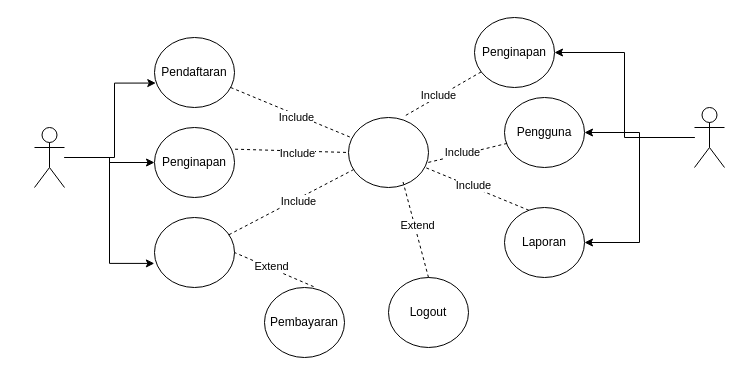
Some shapes in this 743 by 375 pixel diagram are drawn without their labels. The shapes that lost their labels are listed below. From the top down, each one's centre as x and y in pixels, then its label:
At (x=49, y=157): "Pengunjung".
At (x=388, y=152): "Login".
At (x=709, y=137): "Admin".
At (x=194, y=252): "Booking".
